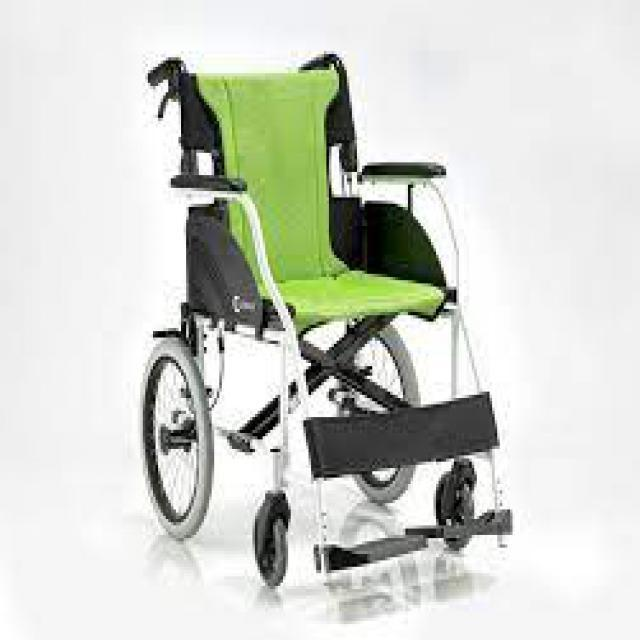wheelchair: (128, 48, 526, 590)
